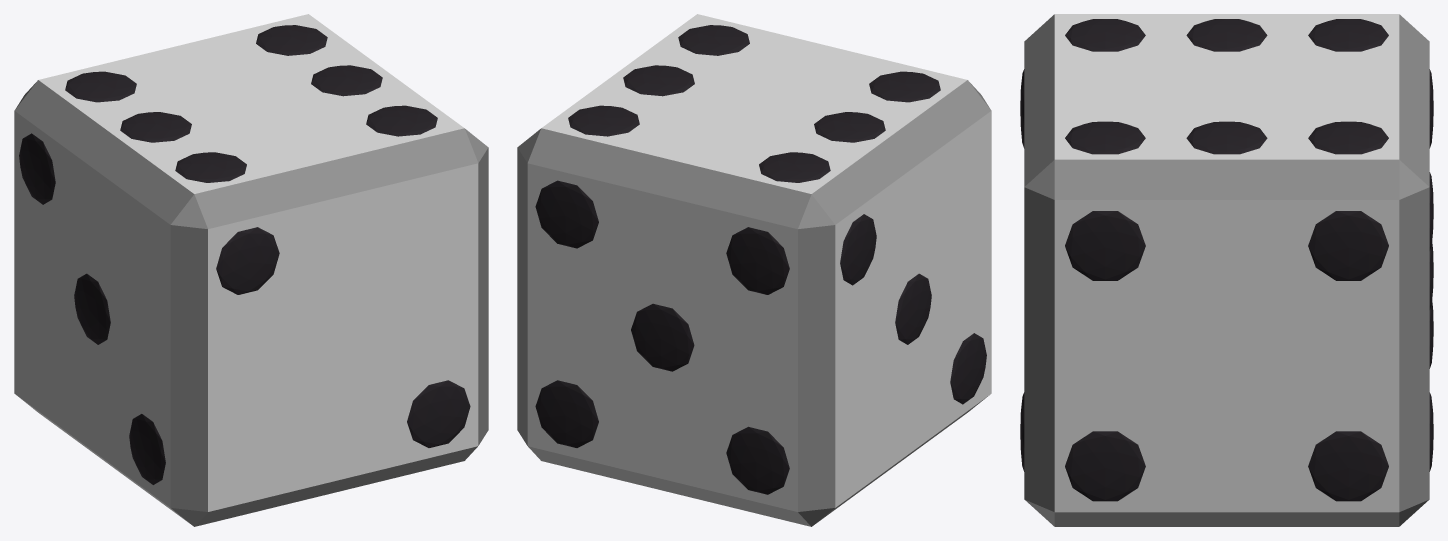
File: Dices_006.fbx
3 views of the same model, side by side, from view 1: azimuth 30°, elevation 25°; view 2: azimuth 150°, elevation 25°; view 3: azimuth 270°, elevation 25° (orthographic). The views are drawn at different scales.
Visible parts, largest first — view 1: Cube; view 2: Cube; view 3: Cube.
Boxes of the visible parts, x1,y1,x2,y2 form: Cube: [14, 14, 488, 526]; Cube: [517, 14, 991, 526]; Cube: [1020, 14, 1433, 526].
Bounding box in the file's own units: 102 × 102 × 102.
